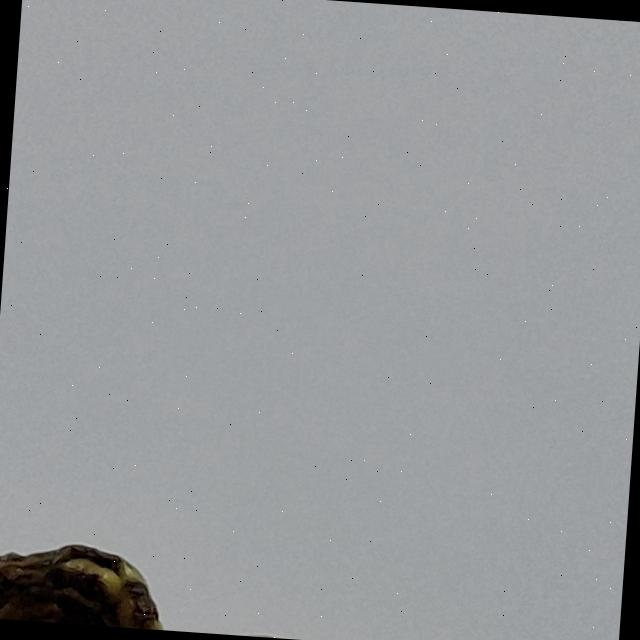mangosteen: (0, 287, 639, 640)
